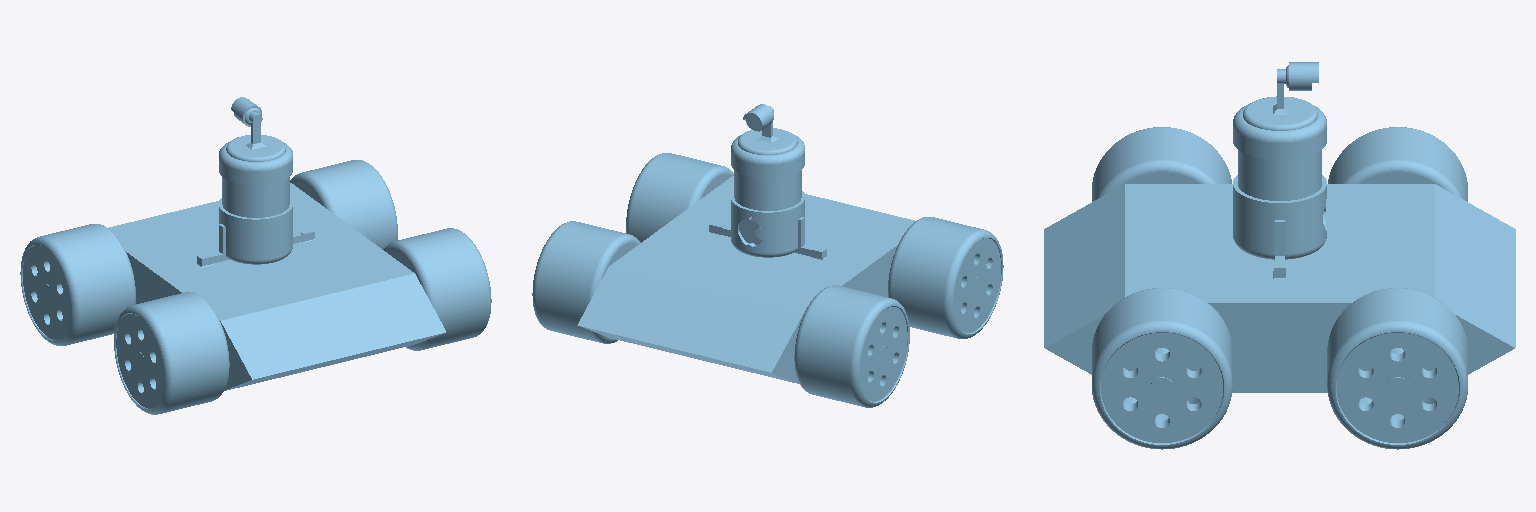
URDF robot description (robot_diff):
<?xml version="1.0" ?>

<robot name="robot_diff" xmlns:xacro="http://ros.org/wiki/xacro">
  <link name="base_link">
  </link>

  <!-- MONTAGEM DO CHASSIS -->
  <link name="chassis">
    <visual>
      <origin rpy="0 0 0" xyz="0 0 0"/>
      <geometry>
        <mesh filename="package://robot_diff_description/meshes/Body.dae"/>
      </geometry>
    </visual>

    <collision>
      <origin rpy="0 0 0" xyz="0 0 0"/>
      <geometry>
        <mesh filename="package://robot_diff_description/meshes/Body.dae"/>
      </geometry>
    </collision>

    <inertial>
      <origin rpy="0 0 0" xyz="0 0 0"/>
      <mass value="2.125"/>
      <inertia ixx="3.352e-2" ixy="-9.804e-10" ixz="0" iyy="1.872e-2" iyx = "-9.804e-10" izy="-7.134e-10" iyz="-7.134e-10" izz="4.877e-2" izx="0"/>
    </inertial>
  </link>

  <joint name="base_to_chassis" type="fixed">
    <parent link="base_link"/>
    <child link="chassis"/>
    <origin rpy="0 0 0" xyz="0 0 0" />
  </joint>


  <!-- MONTAGEM DA RODA ESQUERDA TRASEIRA-->
  <link name="roda_esquerda_traseira">
    <visual>
      <origin rpy="0 0 +1.571" xyz="0 0 0"/>
      <geometry>
        <mesh filename="package://robot_diff_description/meshes/Wheel.dae"/>
      </geometry>
    </visual>

    <collision>
      <origin rpy="0 0 +1.571" xyz="0 0 0"/>
      <geometry>
        <mesh filename="package://robot_diff_description/meshes/Wheel.dae"/>
      </geometry>
    </collision>

    <inertial>
      <origin rpy="0 0 +1.571" xyz="0 0 0"/>
      <mass value="13.6"/>
      <inertia ixx="3.0989369e-3" ixy="0.0" ixz="0" iyy="4.2322454e-3" iyx="0" iyz="0" izz="3.0989369e-3" izx="0" izy="0" />
    </inertial>
  </link>

  <joint name="base_to_roda_esquerda_traseira" type="continuous">
    <parent link="chassis"/>
    <child link="roda_esquerda_traseira"/>
    <origin rpy="0 0 0" xyz="-0.252 -0.375 -0.097" />
    <axis xyz="1 0 0" />
  </joint>


  <!-- MONTAGEM DA RODA ESQUERDA DIANTEIRA-->
  <link name="roda_esquerda_dianteira">
    <visual>
      <origin rpy="0 0 +1.571" xyz="0 0 0"/>
      <geometry>
        <mesh filename="package://robot_diff_description/meshes/Wheel.dae"/>
      </geometry>
    </visual>

    <collision>
      <origin rpy="0 0 +1.571" xyz="0 0 0"/>
      <geometry>
        <mesh filename="package://robot_diff_description/meshes/Wheel.dae"/>
      </geometry>
    </collision>

    <inertial>
      <origin rpy="0 0 +1.571" xyz="0 0 0"/>
      <mass value="13.6"/>
      <inertia ixx="3.0989369e-3" ixy="0.0" ixz="0" iyy="4.2322454e-3" iyx="0" iyz="0" izz="3.0989369e-3" izx="0" izy="0" />
    </inertial>
  </link>

  <joint name="base_to_roda_esquerda_dianteira" type="continuous">
    <parent link="chassis"/>
    <child link="roda_esquerda_dianteira"/>
    <origin rpy="0 0 0" xyz="-0.252 -0.125 -0.097" />
    <axis xyz="1 0 0" />
  </joint>



  <!-- MONTAGEM DA RODA DIREITA TRASEIRA-->
  <link name="roda_direita_traseira">
    <visual>
      <origin rpy="0 0 -1.571" xyz="0 0 0"/>
      <geometry>
        <mesh filename="package://robot_diff_description/meshes/Wheel.dae"/>
      </geometry>
    </visual>

    <collision>
      <origin rpy="0 0 -1.571" xyz="0 0 0"/>
      <geometry>
        <mesh filename="package://robot_diff_description/meshes/Wheel.dae"/>
      </geometry>
    </collision>

    <inertial>
      <origin rpy="0 0 -1.571" xyz="0 0 0"/>
      <mass value="13.6"/>
      <inertia ixx="3.0989369e-3" ixy="0.0" ixz="0" iyy="4.2322454e-3" iyx="0" iyz="0" izz="3.0989369e-3" izx="0" izy="0" />
    </inertial>
  </link>

  <joint name="base_to_roda_direita_traseira" type="continuous">
    <parent link="chassis"/>
    <child link="roda_direita_traseira"/>
    <origin rpy="0 0 0" xyz="0.252 -0.375 -0.097" />
    <axis xyz="1 0 0" />
  </joint>


  <!-- MONTAGEM DA RODA DIREITA DIANTEIRA-->
  <link name="roda_direita_dianteira">
    <visual>
      <origin rpy="0 0 -1.571" xyz="0 0 0"/>
      <geometry>
        <mesh filename="package://robot_diff_description/meshes/Wheel.dae"/>
      </geometry>
    </visual>

    <collision>
      <origin rpy="0 0 -1.571" xyz="0 0 0"/>
      <geometry>
        <mesh filename="package://robot_diff_description/meshes/Wheel.dae"/>
      </geometry>
    </collision>

    <inertial>
      <origin rpy="0 0 -1.571" xyz="0 0 0"/>
      <mass value="13.6"/>
      <inertia ixx="3.0989369e-3" ixy="0.0" ixz="0" iyy="4.2322454e-3" iyx="0" iyz="0" izz="3.0989369e-3" izx="0" izy="0" />
    </inertial>
  </link>

  <joint name="base_to_roda_direita_dianteira" type="continuous">
    <parent link="chassis"/>
    <child link="roda_direita_dianteira"/>
    <origin rpy="0 0 0" xyz="0.252 -0.125 -0.097" />
    <axis xyz="1 0 0" />
  </joint>



    <!-- MONTAGEM DO LIDAR-->
  <link name="lidar">
    <visual>
      <origin rpy="0 0 1.571" xyz="0 0 0"/>
      <geometry>
        <mesh filename="package://robot_diff_description/meshes/Lidar.dae"/>
      </geometry>
    </visual>

    <collision>
      <origin rpy="0 0 1.571" xyz="0 0 0"/>
      <geometry>
        <mesh filename="package://robot_diff_description/meshes/Lidar.dae"/>
      </geometry>
    </collision>

    <inertial>
      <origin rpy="0 0 1.571" xyz="0 0 0"/>
      <mass value="0.78"/>
      <inertia ixx="1.955e-3" ixy="-3.644e-7" ixz="-9.194e-6" iyx="-3.644e-7" iyy="1.928e-3" iyz="8.363e-8" izx="-9.194e-6" izy="8.363e-8" izz="9.083e-4"/>
    </inertial>
  </link>

  <joint name="base_to_lidar" type="fixed">
    <parent link="chassis"/>
    <child link="lidar"/>
    <origin rpy="0 0 0" xyz="0 -0.25 0.051" />
  </joint>

    <!-- MONTAGEM DA CAMERA-->
  <link name="camera_top">
    <visual>
      <origin rpy="0 0 0" xyz="0 0 0"/>
      <geometry>
        <mesh filename="package://robot_diff_description/meshes/Camera.dae"/>
      </geometry>
    </visual>

    <collision>
      <origin rpy="0 0 0" xyz="0 0 0"/>
      <geometry>
        <mesh filename="package://robot_diff_description/meshes/Camera.dae"/>
      </geometry>
    </collision>

    <inertial>
      <origin rpy="0 0 0" xyz="0 0 0"/>
      <mass value="0.036"/>
      <inertia ixx="2.614e-5" ixy="0" ixz="-7.109e-6" iyx="0" iyy="2.857e-5" iyz="0" izx="-7.109e-6" izy="0" izz="1.961e-5" />
    </inertial>
  </link>

  <joint name="base_to_camera" type="fixed">
    <parent link="chassis"/>
    <child link="camera_top"/>
    <origin rpy="0 0 1.571" xyz="0 -0.216 0.151" />
  </joint>



  <gazebo>
    <plugin name="differential_drive_controller" filename="libgazebo_ros_skid_steer_drive.so">
      <alwaysOn>true</alwaysOn>
      <legacyMode>false</legacyMode>
      <updateRate>40</updateRate>
      <leftFrontJoint>base_to_roda_esquerda_dianteira</leftFrontJoint>
      <rightFrontJoint>base_to_roda_direita_dianteira</rightFrontJoint>
      <leftRearJoint>base_to_roda_esquerda_traseira</leftRearJoint>
      <rightRearJoint>base_to_roda_direita_traseira</rightRearJoint>
      <!-- <wheelSeparation>${wheel_separation}</wheelSeparation> -->
      <wheelDiameter>0.15</wheelDiameter> 
      <torque>20</torque>
      <commandTopic>cmd_vel</commandTopic>
      <odometryTopic>odom</odometryTopic>
      <odometryFrame>odom</odometryFrame>
      <publishWheelTF>true</publishWheelTF>
      <publishOdomTF>true</publishOdomTF>
      <publishWheelJointState>true</publishWheelJointState>
      <robotBaseFrame>base_link</robotBaseFrame>
    </plugin>
  </gazebo>

  <gazebo reference="lidar">
    <sensor type="ray" name="head_hokuyo_sensor">
      <pose>0 0 0 0 0 0</pose>
      <visualize>false</visualize>
      <update_rate>20</update_rate>
      <ray>
        <scan>
          <horizontal>
            <samples>720</samples>
            <resolution>1</resolution>
            <min_angle>0</min_angle>
            <max_angle>3.141592</max_angle>
          </horizontal>
        </scan>
        <range>
          <min>0.10</min>
          <max>10.0</max>
          <resolution>0.01</resolution>
        </range>
        <noise>
          <type>gaussian</type>
          <mean>0.0</mean>
          <stddev>0.01</stddev>
        </noise>
      </ray>
      <plugin name="gazebo_ros_head_hokuyo_controller" filename="libgazebo_ros_laser.so">
        <topicName>/diff/laser/scan</topicName>
        <frameName>lidar</frameName>
      </plugin>
    </sensor>
  </gazebo>

  <gazebo reference="camera_top">
    <sensor type="camera" name="camera_top">
      <update_rate>30.0</update_rate>
      <camera name="head">
        <horizontal_fov>1.3962634</horizontal_fov>
        <image>
          <width>1366</width>
          <height>768</height>
          <format>R8G8B8</format>
        </image>
        <clip>
          <near>0.02</near>
          <far>300</far>
        </clip>
      </camera>
      <plugin name="camera_controller" filename="libgazebo_ros_camera.so">
        <alwaysOn>true</alwaysOn>
        <updateRate>0.0</updateRate>
        <cameraName>mybot/camera_top</cameraName>
        <imageTopicName>image_raw</imageTopicName>
        <cameraInfoTopicName>camera_info</cameraInfoTopicName>
        <frameName>camera_top</frameName>
        <hackBaseline>0.07</hackBaseline>
        <distortionK1>0.0</distortionK1>
        <distortionK2>0.0</distortionK2>
        <distortionK3>0.0</distortionK3>
        <distortionT1>0.0</distortionT1>
        <distortionT2>0.0</distortionT2>
      </plugin>
    </sensor>
  </gazebo>


</robot>

--- What the picture shows (computed from the rendered views, not written in the file) ---
The picture shows the robot from 3 angles, left to right: view 1: azimuth 30°, elevation 25°; view 2: azimuth 150°, elevation 25°; view 3: azimuth 270°, elevation 25°; orthographic projection.
Robot: robot_diff — 8 links, 7 joints (4 continuous, 3 fixed); root link base_link; default pose: all joints at 0.
Visible links, largest first — view 1: chassis, roda_esquerda_traseira, roda_esquerda_dianteira, lidar, roda_direita_traseira, roda_direita_dianteira, camera_top; view 2: chassis, roda_esquerda_dianteira, roda_esquerda_traseira, lidar, roda_direita_dianteira, roda_direita_traseira, camera_top; view 3: chassis, roda_direita_traseira, roda_direita_dianteira, lidar, roda_esquerda_dianteira, roda_esquerda_traseira, camera_top.
Link boxes in pixels (x1=…): chassis: x1=42, y1=183, x2=445, y2=390; roda_esquerda_traseira: x1=114, y1=292, x2=229, y2=414; roda_esquerda_dianteira: x1=20, y1=224, x2=135, y2=345; lidar: x1=211, y1=142, x2=302, y2=264; roda_direita_traseira: x1=383, y1=228, x2=491, y2=350; roda_direita_dianteira: x1=290, y1=160, x2=397, y2=249; camera_top: x1=226, y1=97, x2=285, y2=161; chassis: x1=577, y1=176, x2=981, y2=383; roda_esquerda_dianteira: x1=794, y1=285, x2=909, y2=407; roda_esquerda_traseira: x1=888, y1=217, x2=1003, y2=338; lidar: x1=721, y1=134, x2=812, y2=257; roda_direita_dianteira: x1=532, y1=221, x2=640, y2=343; roda_direita_traseira: x1=626, y1=153, x2=733, y2=242; camera_top: x1=738, y1=104, x2=797, y2=154; chassis: x1=1044, y1=184, x2=1515, y2=398; roda_direita_traseira: x1=1092, y1=288, x2=1232, y2=449; roda_direita_dianteira: x1=1327, y1=288, x2=1467, y2=449; lidar: x1=1233, y1=104, x2=1326, y2=260; roda_esquerda_dianteira: x1=1328, y1=127, x2=1467, y2=201; roda_esquerda_traseira: x1=1092, y1=127, x2=1231, y2=201; camera_top: x1=1243, y1=62, x2=1318, y2=130.
Bounding box of the posed robot: 0.5039 × 0.5 × 0.338 m (x, y, z).
Meshes: 4 distinct files referenced, 7 mesh visuals loaded (4 Collada DAE).
